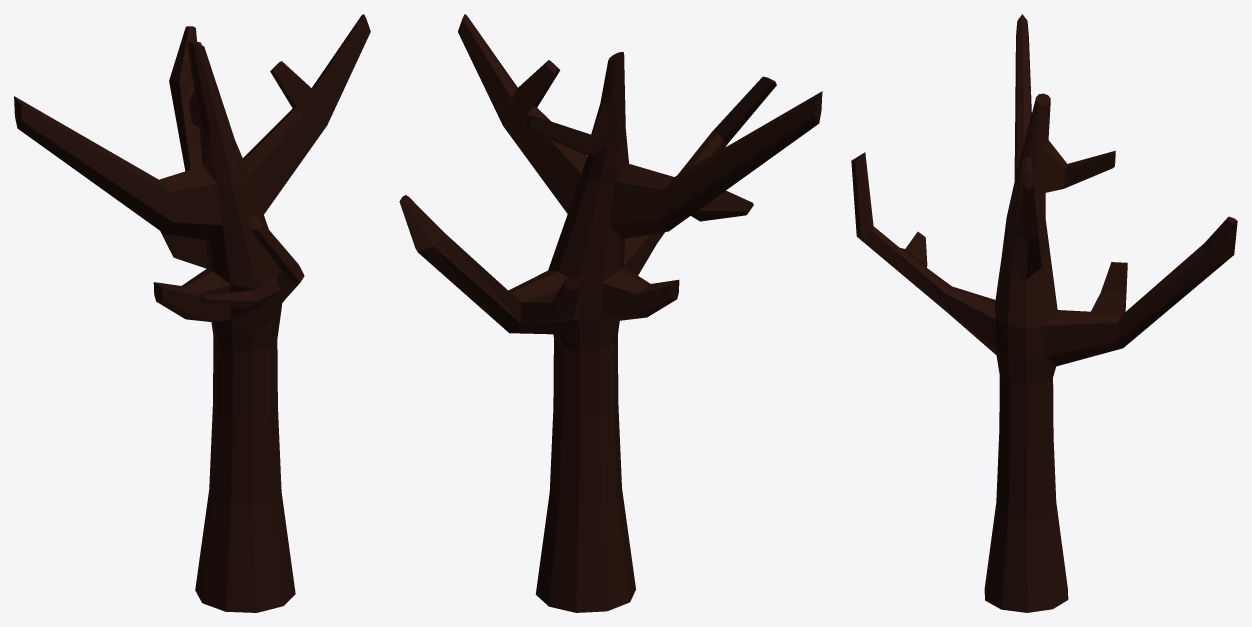
File: dead3.obj
The picture shows the model from 3 angles, left to right: view 1: azimuth 30°, elevation 25°; view 2: azimuth 150°, elevation 25°; view 3: azimuth 270°, elevation 25°; orthographic projection. The views are drawn at different scales.
Visible parts, largest first — view 1: dead3_Cylinder.001; view 2: dead3_Cylinder.001; view 3: dead3_Cylinder.001.
Boxes of the visible parts, box(x1,y1,x2,y2) form: dead3_Cylinder.001: box(14, 14, 370, 612); dead3_Cylinder.001: box(399, 14, 822, 612); dead3_Cylinder.001: box(851, 14, 1237, 612).
Bounding box in the file's own units: 3.63 × 5.35 × 3.89.
